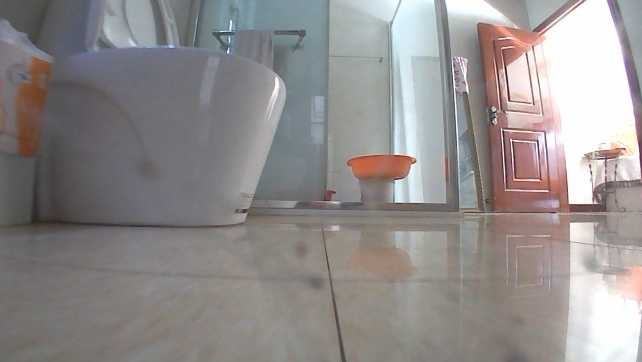door_anno: (475, 22, 569, 215)
toilet: (26, 0, 286, 230)
